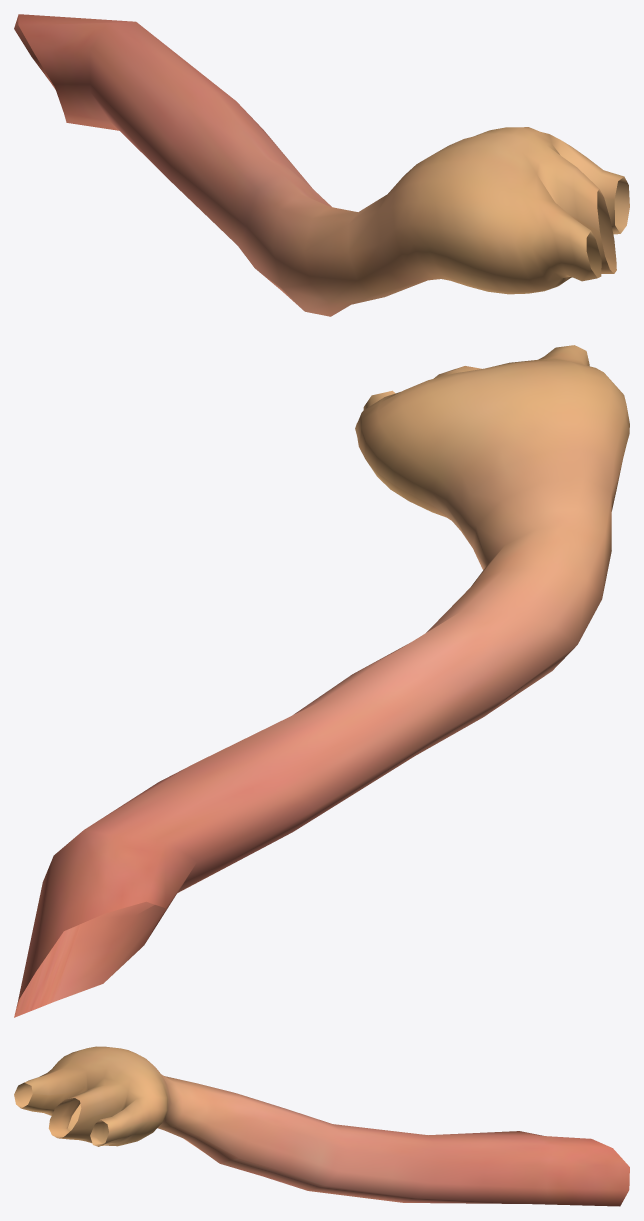
Rendered from L_Trigeminal_Nerve01.fbx.
3 renders of one model, top to bottom at view 1: azimuth 30°, elevation 25°; view 2: azimuth 150°, elevation 25°; view 3: azimuth 270°, elevation 25°, orthographic. The views are drawn at different scales.
Visible parts, largest first — view 1: L_Trigeminal_Nerve01; view 2: L_Trigeminal_Nerve01; view 3: L_Trigeminal_Nerve01.
Boxes of the visible parts, x1,y1,x2,y2 form: L_Trigeminal_Nerve01: (14,14,629,316); L_Trigeminal_Nerve01: (14,345,629,1017); L_Trigeminal_Nerve01: (14,1046,629,1206).
Size of the model in its own units: 0.6784 by 0.6299 by 2.34.
1 material, 1 textured.
